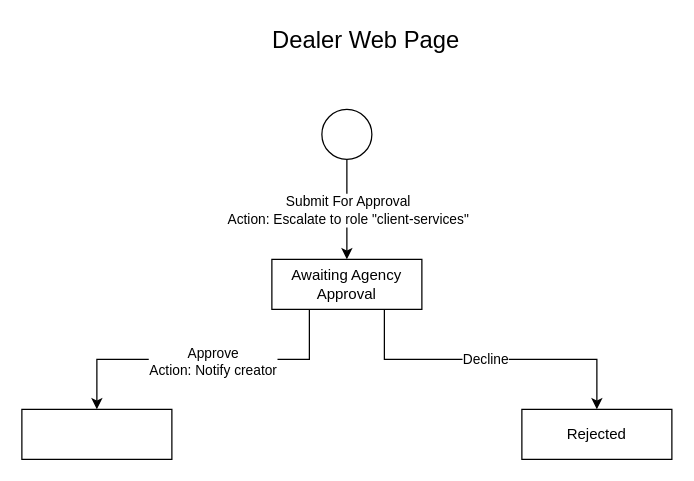
This 694x481 diagram has some shape labels left out. The box of each missing label's shape, as (x1, y1, x2, y2) in pixels:
Approved: (21, 408, 172, 459)
start: (321, 108, 372, 159)
